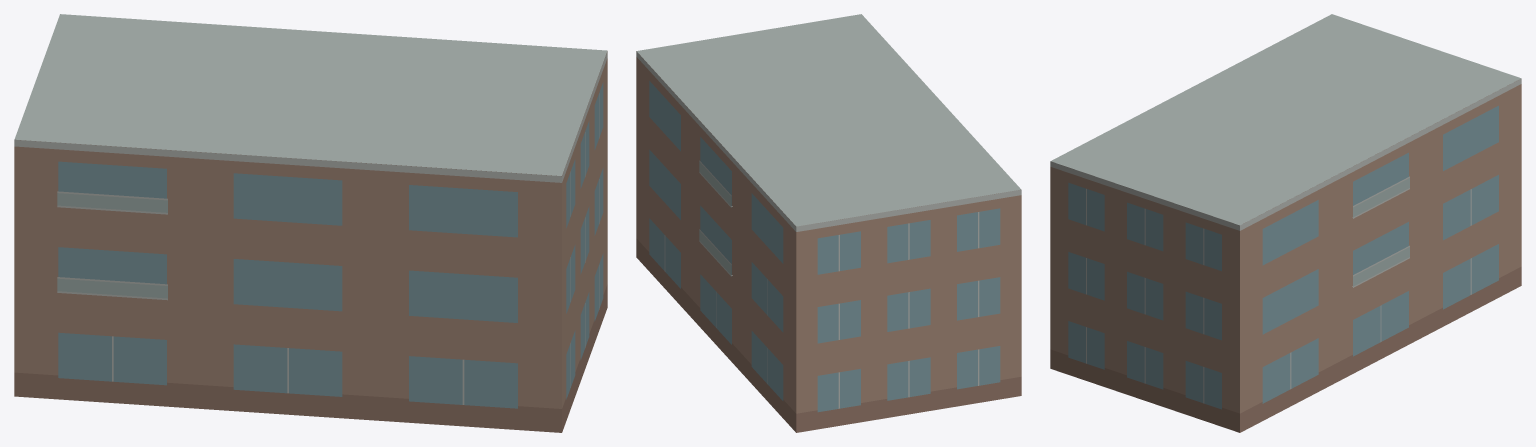
Rendered from survey-upis-32776196.glb.
3 views of the same model, side by side, from view 1: azimuth 30°, elevation 25°; view 2: azimuth 150°, elevation 25°; view 3: azimuth 270°, elevation 25° (orthographic). The views are drawn at different scales.
Parts seen in each view (by area): view 1: survey-upis-32776196.tmp; view 2: survey-upis-32776196.tmp; view 3: survey-upis-32776196.tmp.
Boxes of the visible parts, left/top/right/bottom form: survey-upis-32776196.tmp: left=14, top=14, right=607, bottom=432; survey-upis-32776196.tmp: left=636, top=14, right=1021, bottom=432; survey-upis-32776196.tmp: left=1050, top=14, right=1521, bottom=432.
Size of the model in its own units: 20.01 by 9.15 by 18.84.
